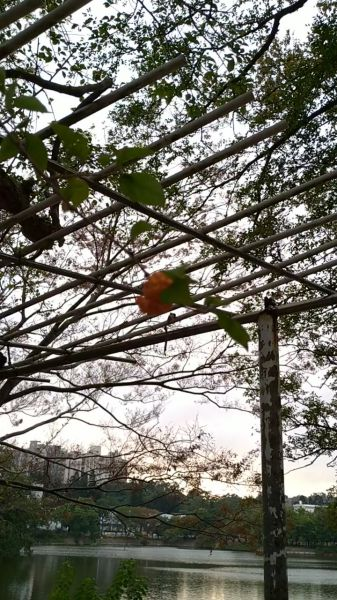eggs: (132, 267, 182, 327)
